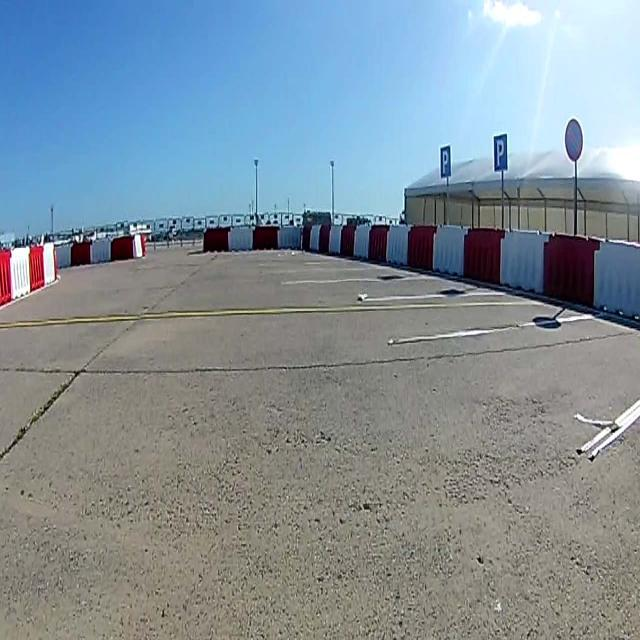park: (493, 136, 508, 172), (439, 145, 452, 179)
parkyasak: (565, 118, 583, 162)
